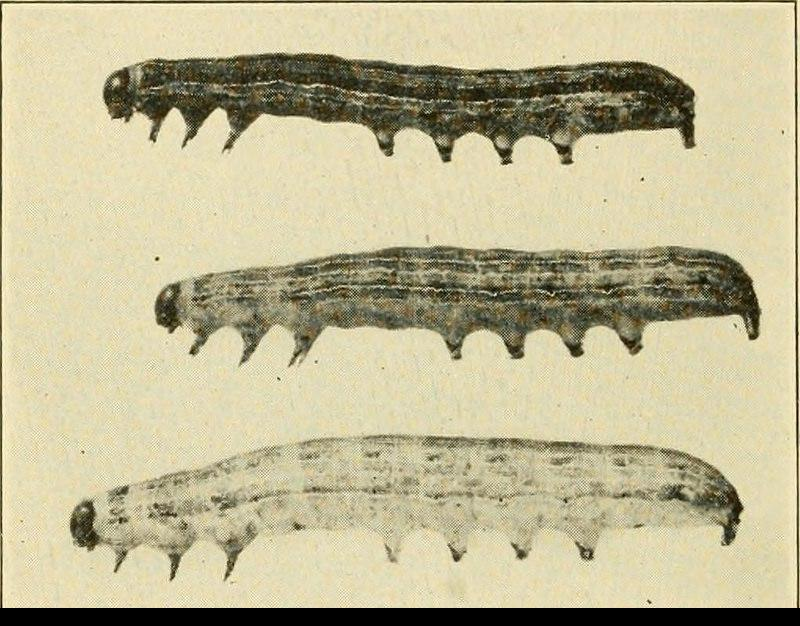larva: (78, 32, 781, 212), (99, 223, 789, 391), (47, 430, 778, 587)
